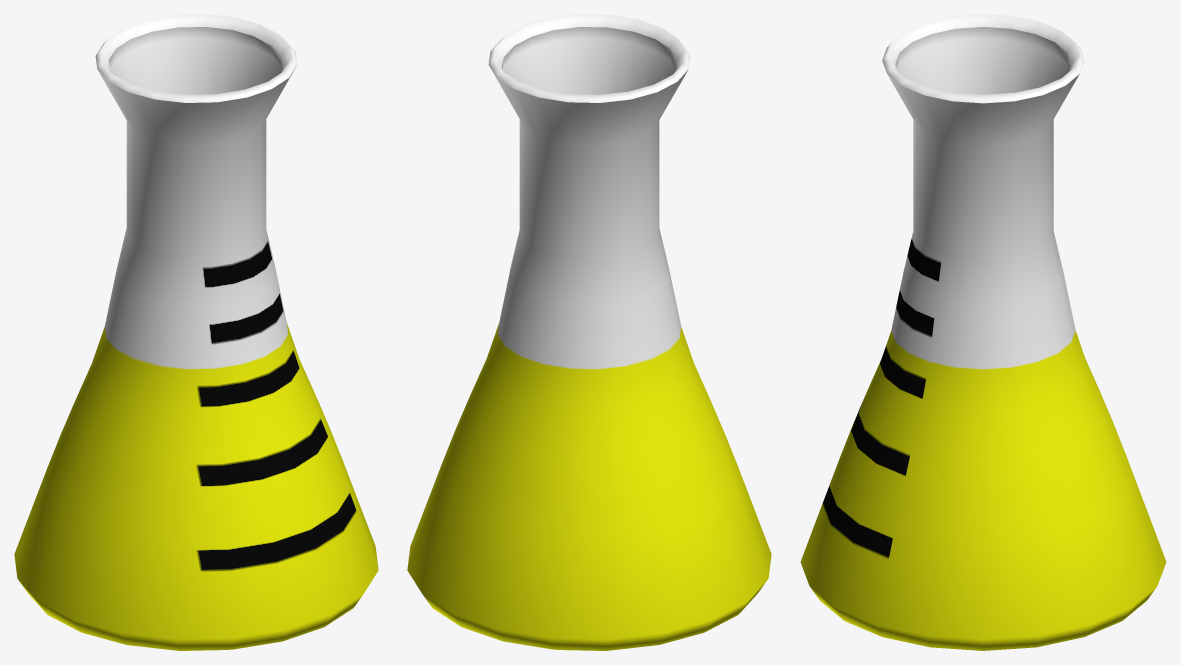
File: flaskYellow.fbx
3 renders of one model, left to right at view 1: azimuth 30°, elevation 25°; view 2: azimuth 150°, elevation 25°; view 3: azimuth 270°, elevation 25°, orthographic.
Parts seen in each view (by area): view 1: pasted__pasted__polySurface2; view 2: pasted__pasted__polySurface2; view 3: pasted__pasted__polySurface2.
Part boxes in pixels (bbox=[...]): pasted__pasted__polySurface2: bbox=[14, 14, 378, 650]; pasted__pasted__polySurface2: bbox=[407, 14, 771, 650]; pasted__pasted__polySurface2: bbox=[800, 14, 1166, 650].
Size of the model in its own units: 0.6026 by 0.9845 by 0.6026.
